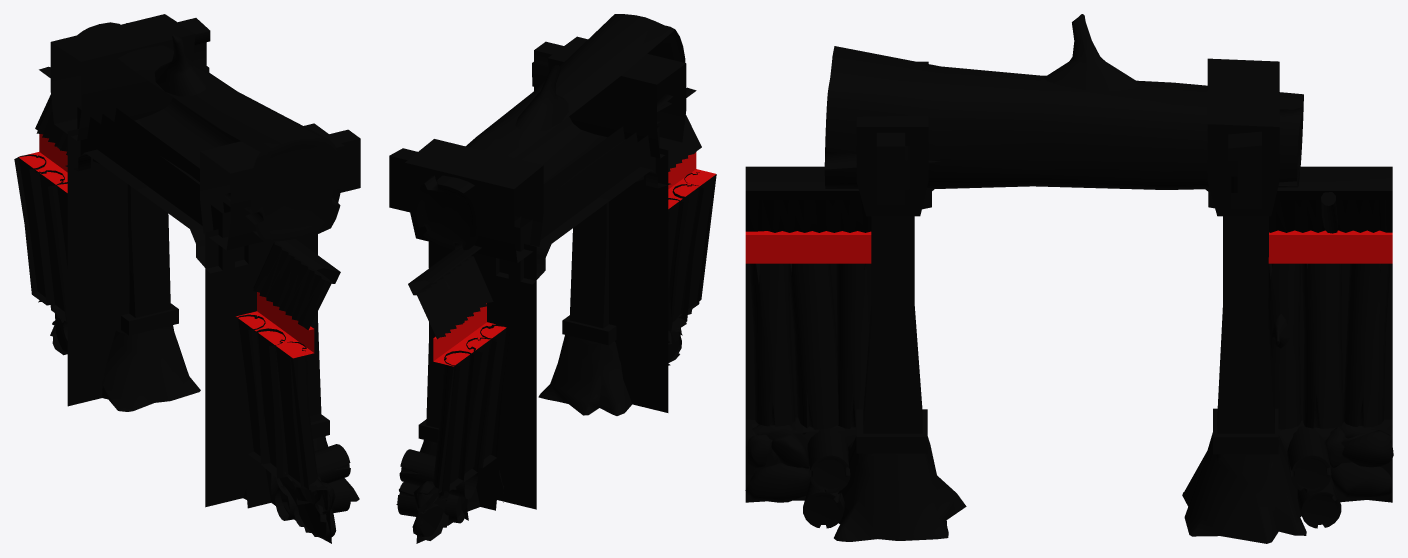
File: MSH_Door_01_Frame.fbx
3 views of the same model, side by side, from view 1: azimuth 30°, elevation 25°; view 2: azimuth 150°, elevation 25°; view 3: azimuth 270°, elevation 25° (orthographic). The views are drawn at different scales.
Visible parts, largest first — view 1: MSH_Door_01_Frame; view 2: MSH_Door_01_Frame; view 3: MSH_Door_01_Frame.
Part boxes in pixels (x1,y1,x2,y2): MSH_Door_01_Frame: (14,14,360,543); MSH_Door_01_Frame: (389,14,716,543); MSH_Door_01_Frame: (745,14,1393,543).
Size of the model in its own units: 217 by 598 by 732.
